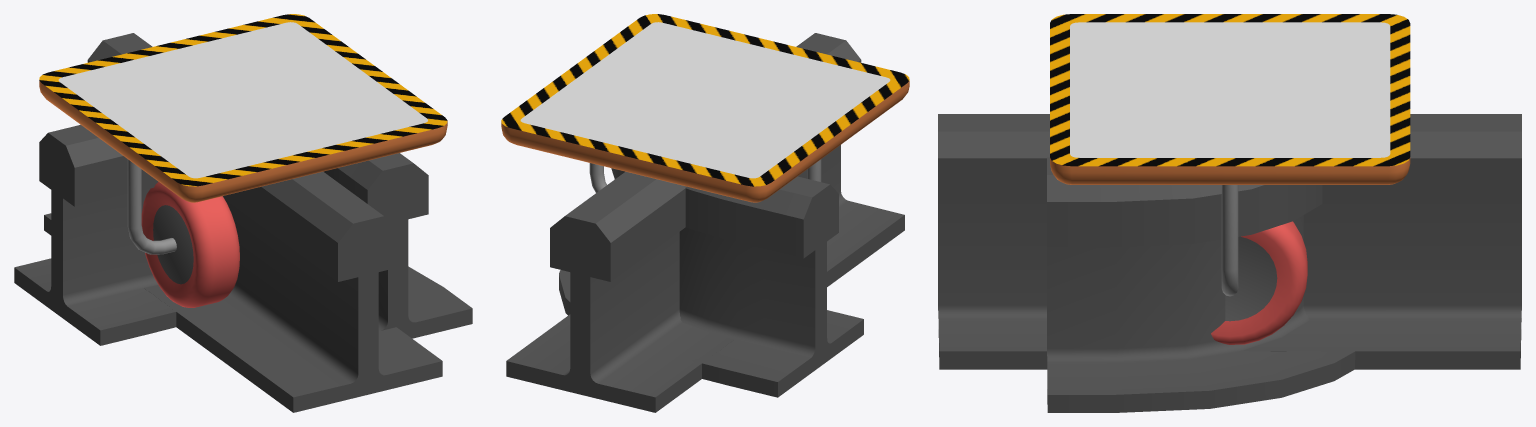
File: rayliAraba.fbx
The picture shows the model from 3 angles, left to right: view 1: azimuth 30°, elevation 25°; view 2: azimuth 150°, elevation 25°; view 3: azimuth 270°, elevation 25°; orthographic projection. The views are drawn at different scales.
Visible parts, largest first — view 1: ust, ray, donenRay, teker; view 2: ust, ray, donenRay, teker; view 3: ray, ust, donenRay, teker.
Boxes of the visible parts, <box> form: ust: <box>39,14,447,202</box>; ray: <box>44,33,442,412</box>; donenRay: <box>14,124,472,345</box>; teker: <box>127,159,239,307</box>; ust: <box>501,14,909,202</box>; ray: <box>506,33,904,412</box>; donenRay: <box>559,168,863,397</box>; teker: <box>589,159,821,192</box>; ray: <box>938,114,1521,369</box>; ust: <box>1050,14,1410,184</box>; donenRay: <box>1047,157,1355,412</box>; teker: <box>1211,185,1307,344</box>.
Bounding box in the file's own units: 293 × 188 × 420.
